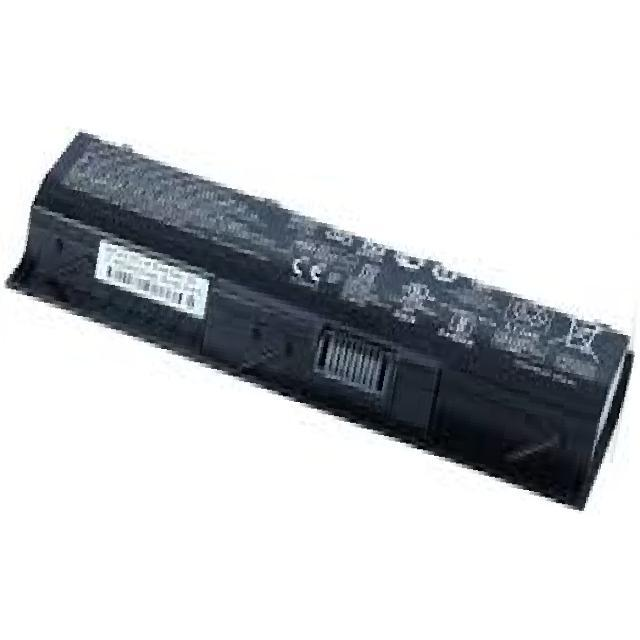Battery: (0, 114, 640, 536)
